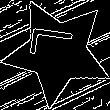L_E: (30, 33, 85, 71)
